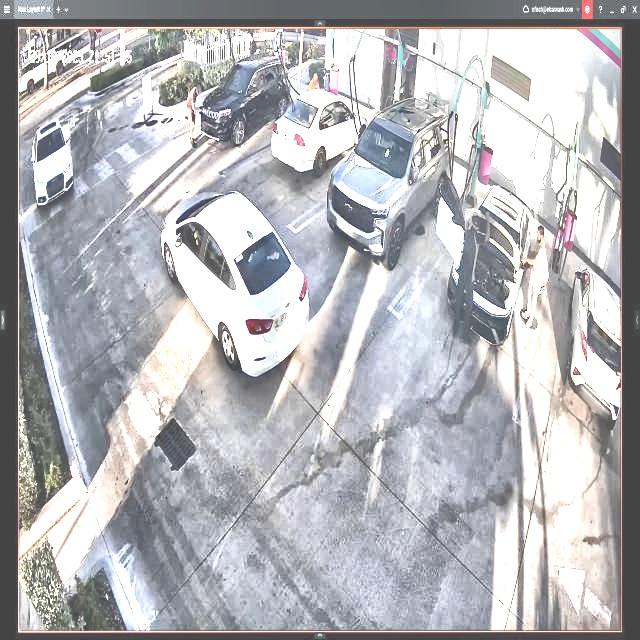Car: (162, 190, 309, 380), (330, 98, 453, 272), (442, 179, 533, 346), (274, 88, 372, 174), (201, 59, 290, 144)
